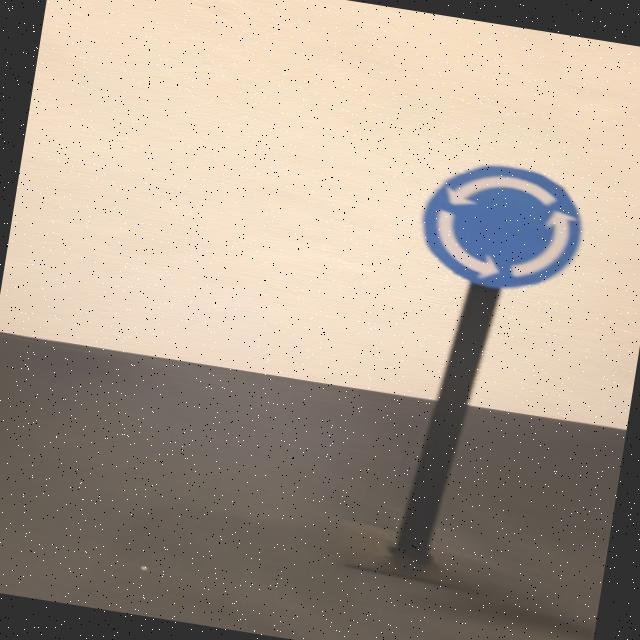round_about: (412, 154, 594, 304)
